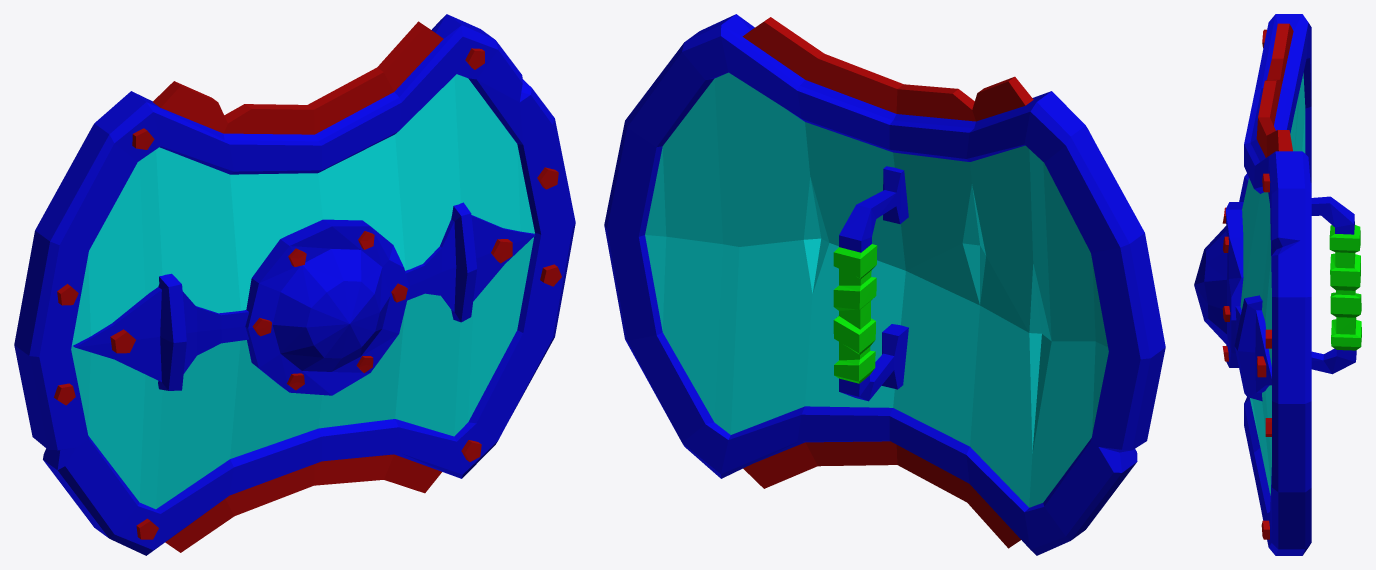
File: Shield_Uncommon_Gladiator.fbx
3 renders of one model, left to right at view 1: azimuth 30°, elevation 25°; view 2: azimuth 150°, elevation 25°; view 3: azimuth 270°, elevation 25°, orthographic. The views are drawn at different scales.
Parts seen in each view (by area): view 1: SM_Wep_Shield_Round_01; view 2: SM_Wep_Shield_Round_01; view 3: SM_Wep_Shield_Round_01.
Part boxes in pixels (x1,y1,x2,y2): SM_Wep_Shield_Round_01: (14, 14, 575, 555); SM_Wep_Shield_Round_01: (604, 14, 1165, 555); SM_Wep_Shield_Round_01: (1194, 14, 1361, 555).
Size of the model in its own units: 0.7354 by 0.6008 by 0.2195.
